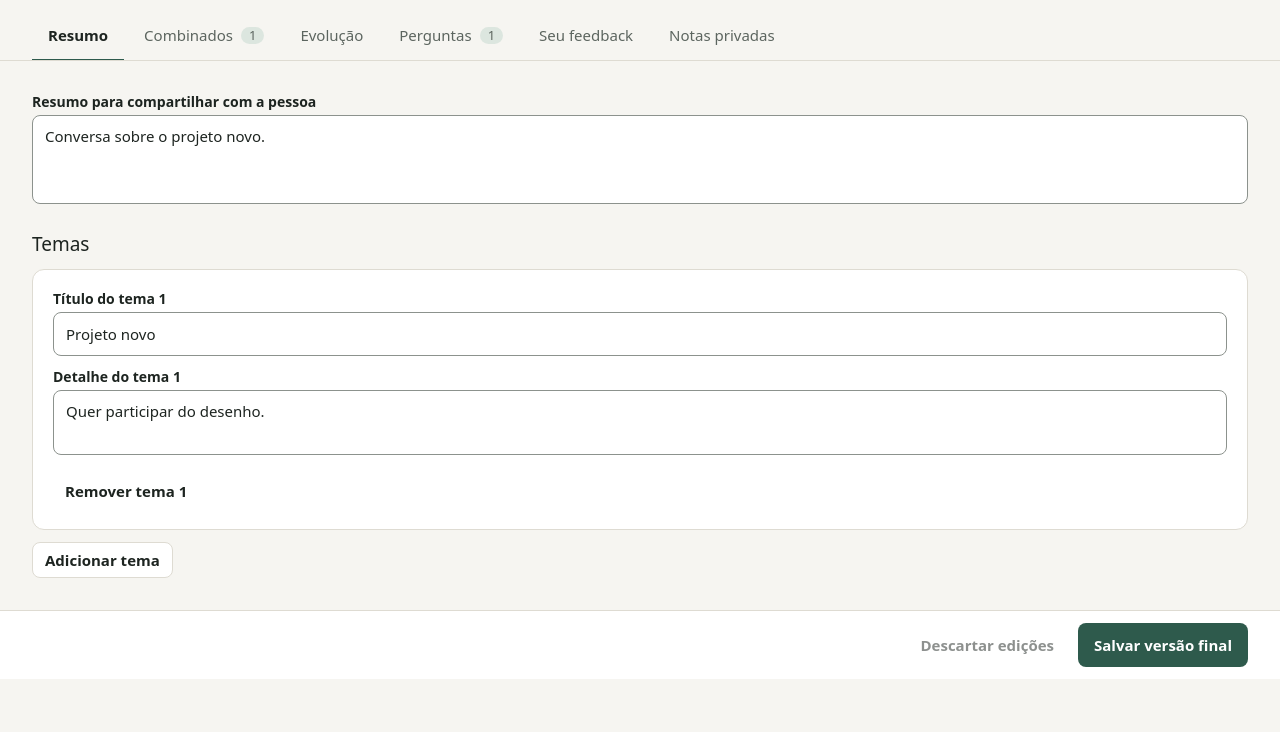
Scenario: ReviewEditor › deve impedir salvar combinado sem descrição
The image size is (1280, 732).
Click the tab "Combinados 1": click(204, 36) 128,12 -> 280,60
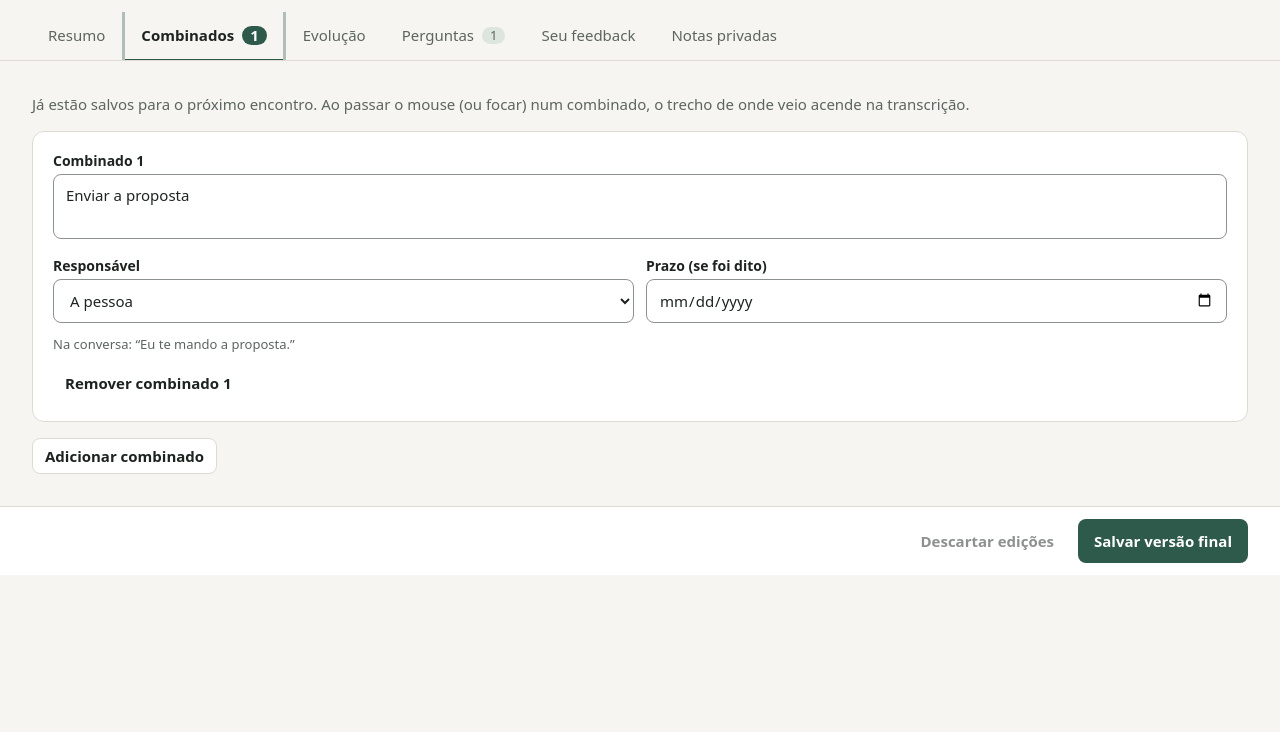
Clear the text box labelled "Combinado 1": (640, 207) 53,174 -> 1227,239
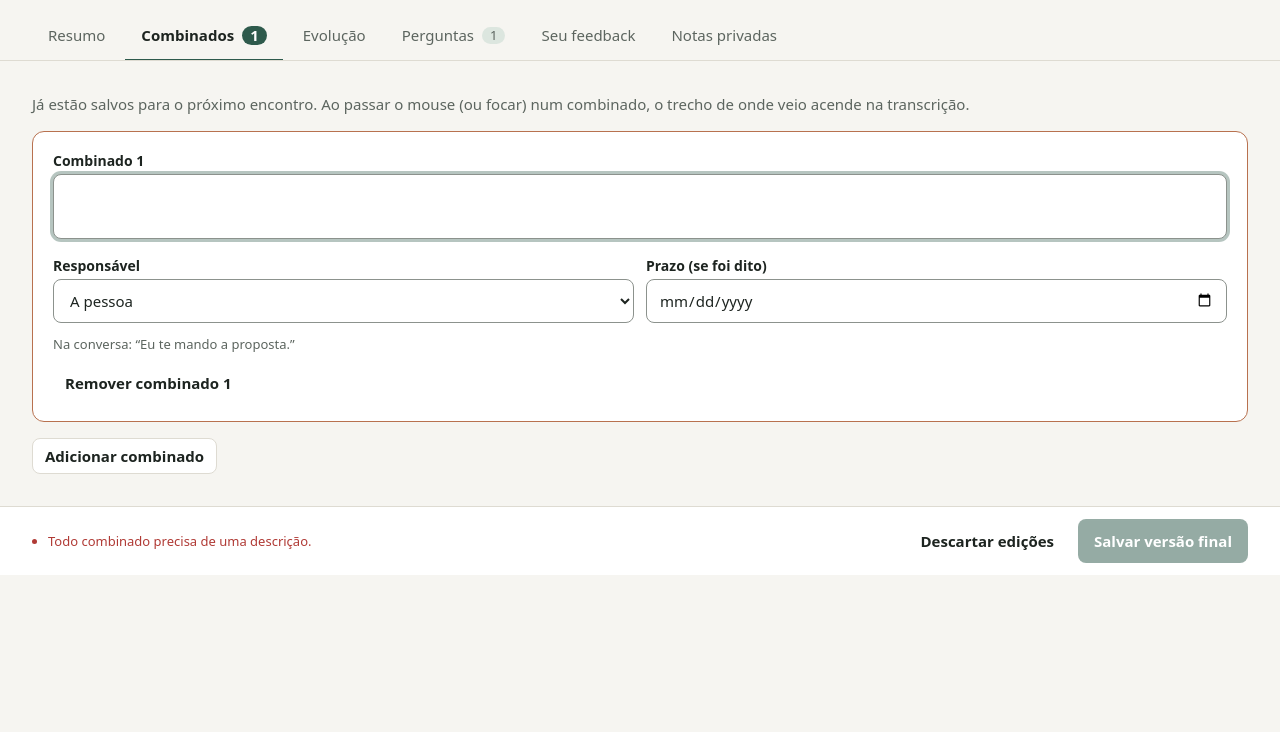
Expected: the message shows "precisa de uma descrição", 48,532 -> 312,550
Expected: the button "Salvar versão final" is disabled, 1078,519 -> 1248,563
